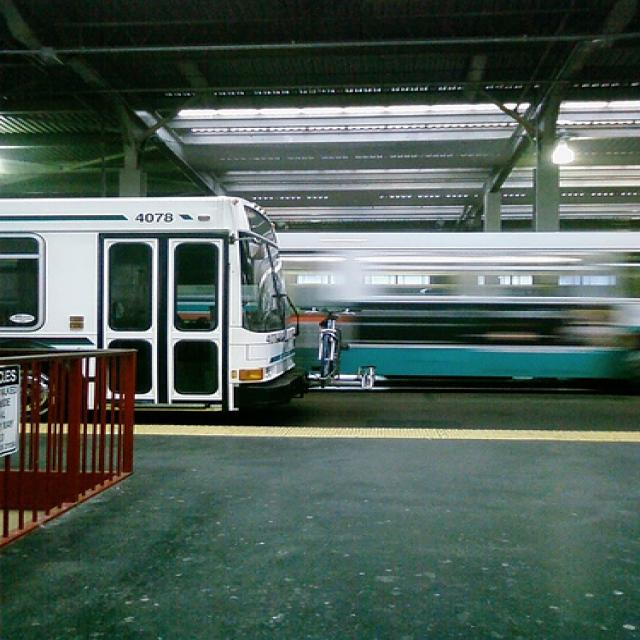Vehicle: (0, 198, 307, 414)
